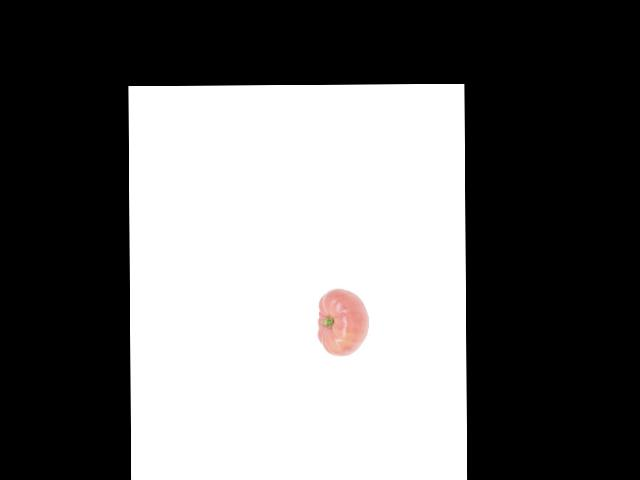tomato: (318, 289, 368, 356)
